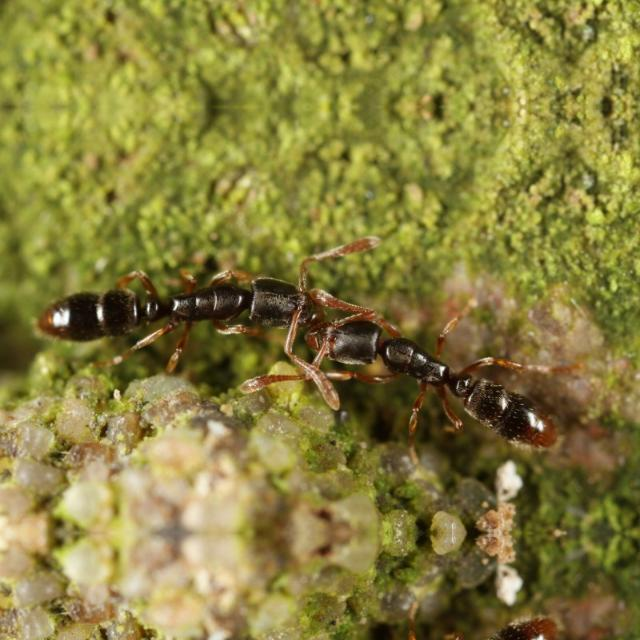Ponera: (312, 280, 604, 472), (32, 248, 322, 364), (312, 590, 602, 640)
